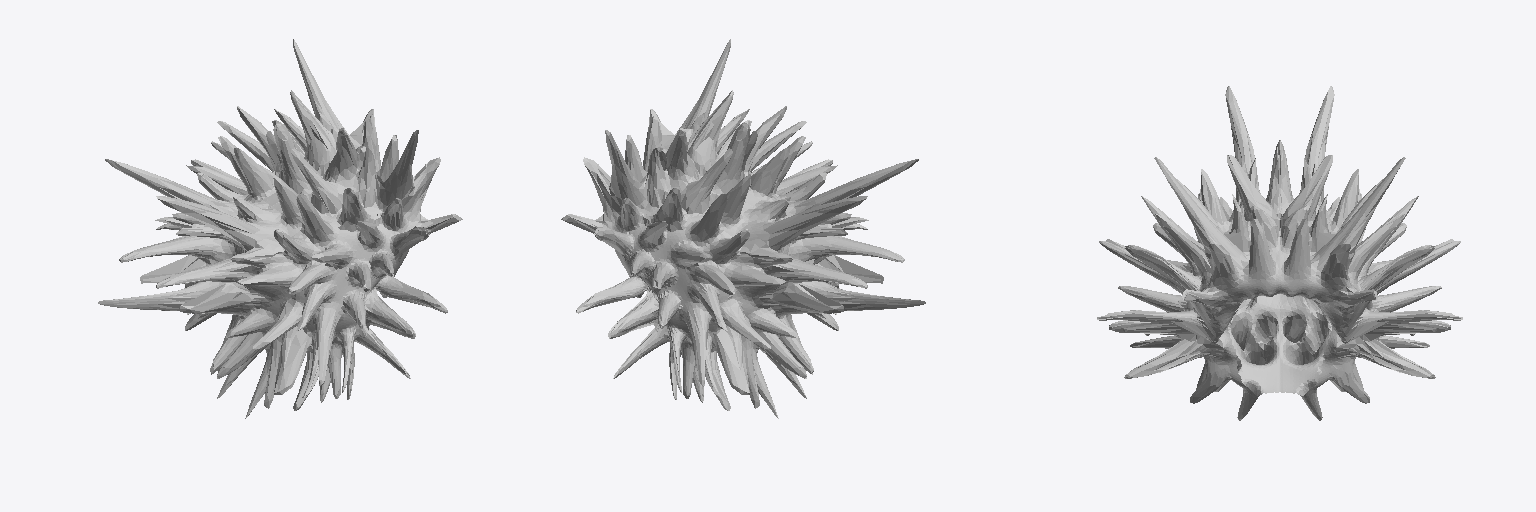
The model's file is hairgirl[hair2].obj.
3 views of the same model, side by side, from view 1: azimuth 30°, elevation 25°; view 2: azimuth 150°, elevation 25°; view 3: azimuth 270°, elevation 25° (orthographic).
Parts seen in each view (by area): view 1: hair; view 2: hair; view 3: hair.
Part boxes in pixels (x1,y1,x2,y2): hair: (98, 39, 462, 418); hair: (561, 39, 925, 418); hair: (1097, 86, 1462, 420).
Bounding box in the file's own units: 18.91 × 16.81 × 18.87.